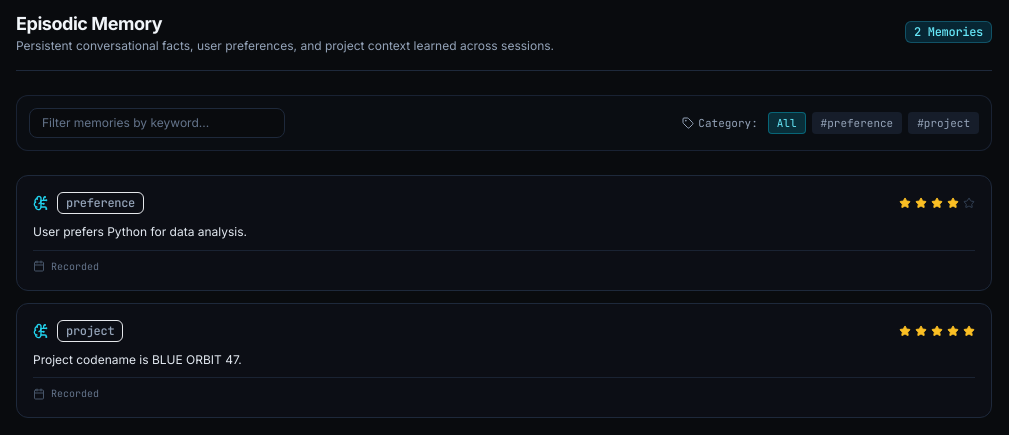
Test: Personal Model Backend API and UI Panels › UI Component Rendering › filters memories by keyword search and category selection
Expected: the text "User prefers Python for data analysis." is shown, [33, 224, 247, 239]
Expected: the text "Project codename is BLUE ORBIT 47." is shown, [33, 352, 242, 366]
Type "BLUE ORBIT" into the field with placeholder "Filter memories by keyword...".
click(157, 123); type("BLUE ORBIT")  # box [29, 108, 285, 138]
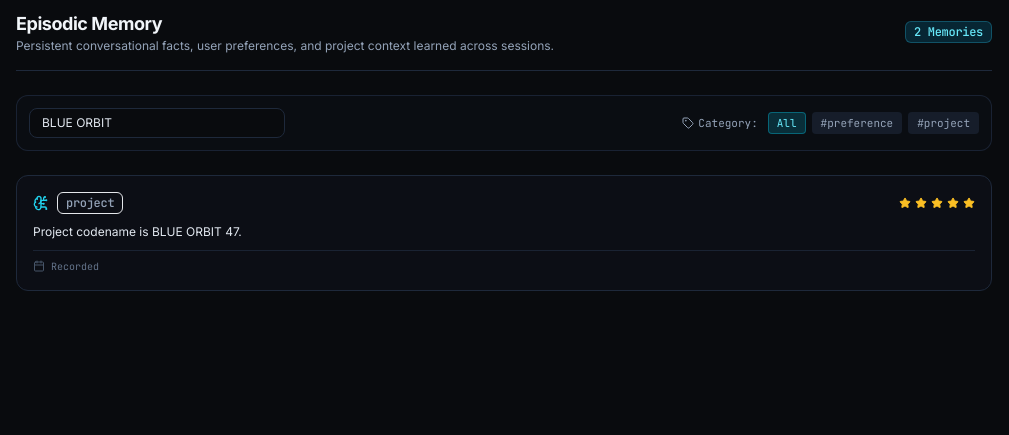
Expected: the text "Project codename is BLUE ORBIT 47." is shown, [33, 224, 242, 239]
Expected: the text "User prefers Python for data analysis." is gone
